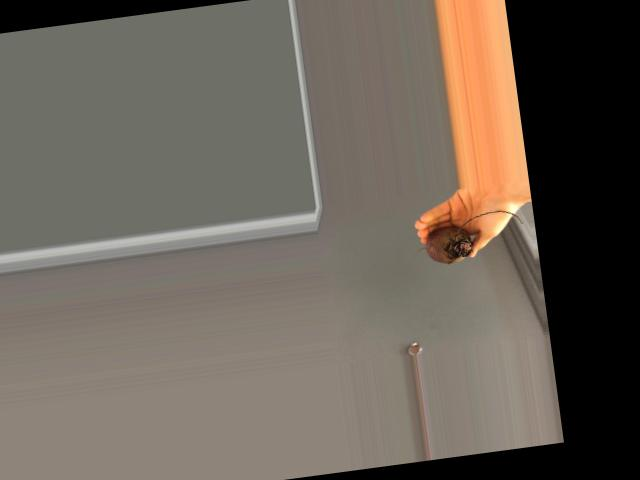beet: (410, 207, 525, 267)
